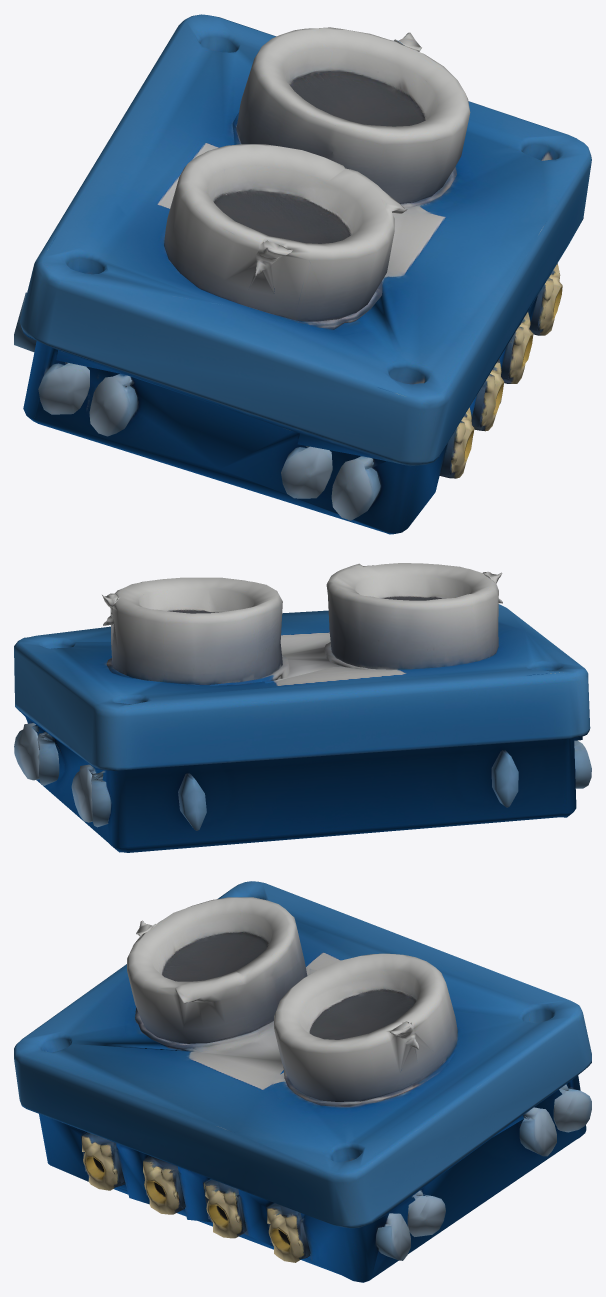
File: sensor-ultrassonico.glb
The picture shows the model from 3 angles, top to bottom: view 1: azimuth 30°, elevation 25°; view 2: azimuth 150°, elevation 25°; view 3: azimuth 270°, elevation 25°; orthographic projection. The views are drawn at different scales.
Parts seen in each view (by area): view 1: tripo_node_a1948808-a292-4d9c-b596-b05bf6c4260b; view 2: tripo_node_a1948808-a292-4d9c-b596-b05bf6c4260b; view 3: tripo_node_a1948808-a292-4d9c-b596-b05bf6c4260b.
Boxes of the visible parts, x1=… form: tripo_node_a1948808-a292-4d9c-b596-b05bf6c4260b: x1=14, y1=14, x2=591, y2=534; tripo_node_a1948808-a292-4d9c-b596-b05bf6c4260b: x1=14, y1=563, x2=591, y2=852; tripo_node_a1948808-a292-4d9c-b596-b05bf6c4260b: x1=14, y1=881, x2=591, y2=1282.
Size of the model in its own units: 0.998 by 0.4668 by 0.998.
Materials: 1 (1 with a texture image).
